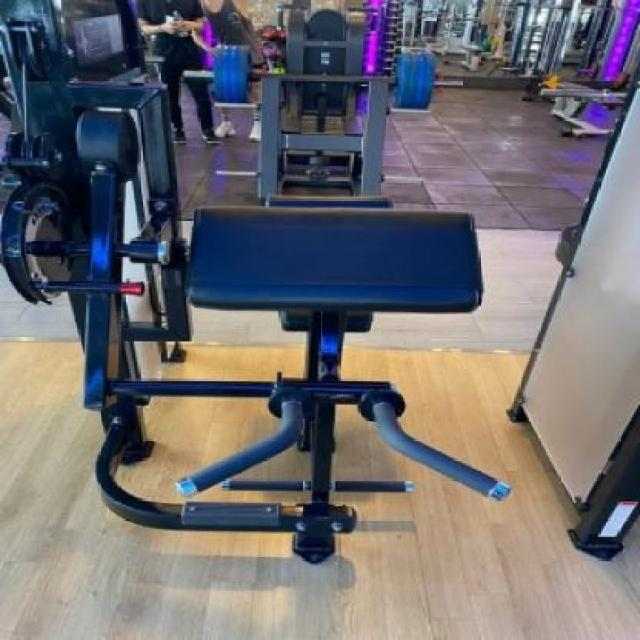arm curl machine: (35, 206, 520, 566)
